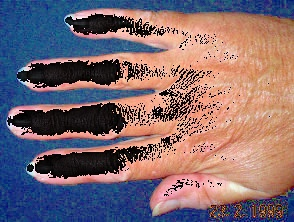vitiligo: (4, 5, 294, 221)
